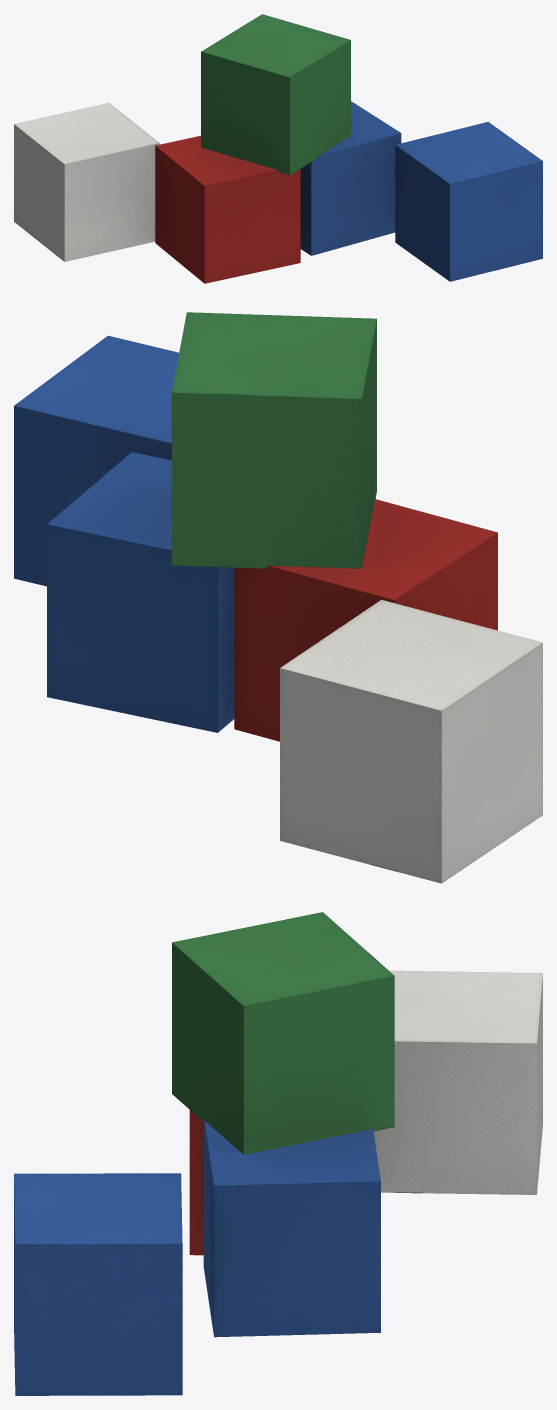
Rendered from H_ToyBlocks.fbx.
The picture shows the model from 3 angles, top to bottom: view 1: azimuth 30°, elevation 25°; view 2: azimuth 150°, elevation 25°; view 3: azimuth 270°, elevation 25°; orthographic projection. The views are drawn at different scales.
Visible parts, largest first — view 1: H_ToyBlocks; view 2: H_ToyBlocks; view 3: H_ToyBlocks.
Part boxes in pixels (box(x1,y1,x2,y2)): H_ToyBlocks: box(14, 14, 542, 283); H_ToyBlocks: box(14, 312, 542, 883); H_ToyBlocks: box(14, 912, 542, 1395).
Size of the model in its own units: 217 by 111 by 177.
1 material, 1 textured.
